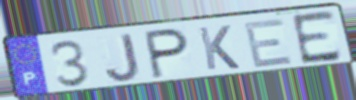3: (49, 39, 91, 89)
E: (289, 8, 345, 67), (241, 17, 296, 70)
J: (104, 32, 143, 84)
K: (195, 24, 242, 72)
P: (142, 27, 191, 81)
